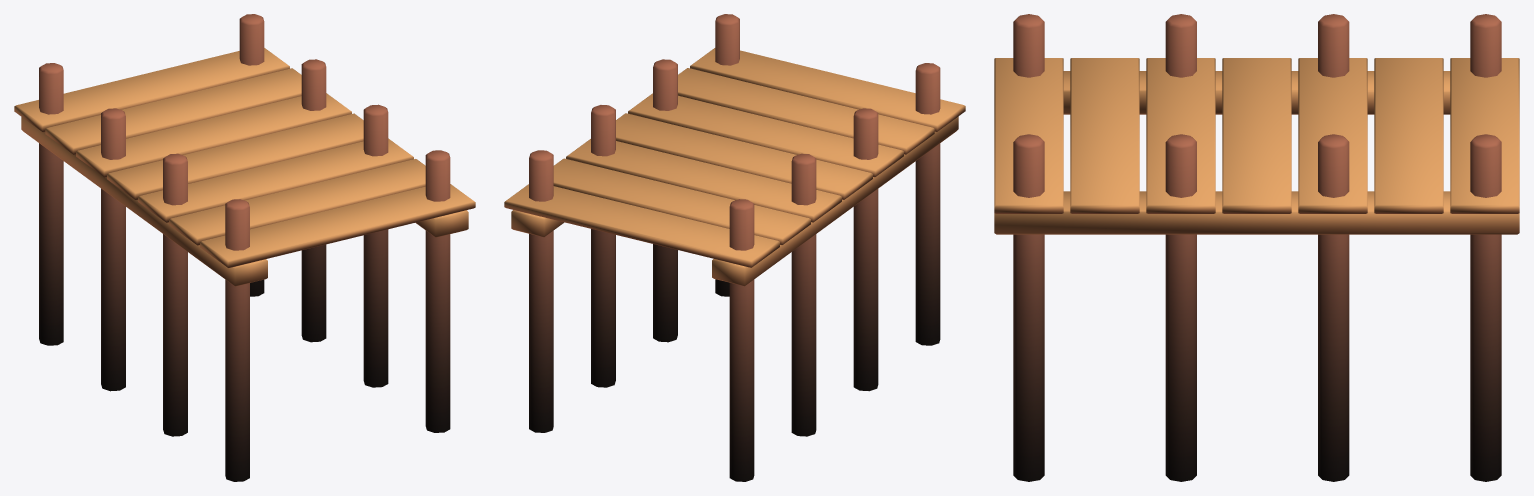
File: DockGD.fbx
3 renders of one model, left to right at view 1: azimuth 30°, elevation 25°; view 2: azimuth 150°, elevation 25°; view 3: azimuth 270°, elevation 25°, orthographic. The views are drawn at different scales.
Parts seen in each view (by area): view 1: Cube.005; view 2: Cube.005; view 3: Cube.005.
Boxes of the visible parts, box(x1,y1,x2,y2) form: Cube.005: box(14, 14, 475, 481); Cube.005: box(504, 14, 965, 481); Cube.005: box(994, 14, 1519, 481).
Size of the model in its own units: 356 by 375 by 532.
